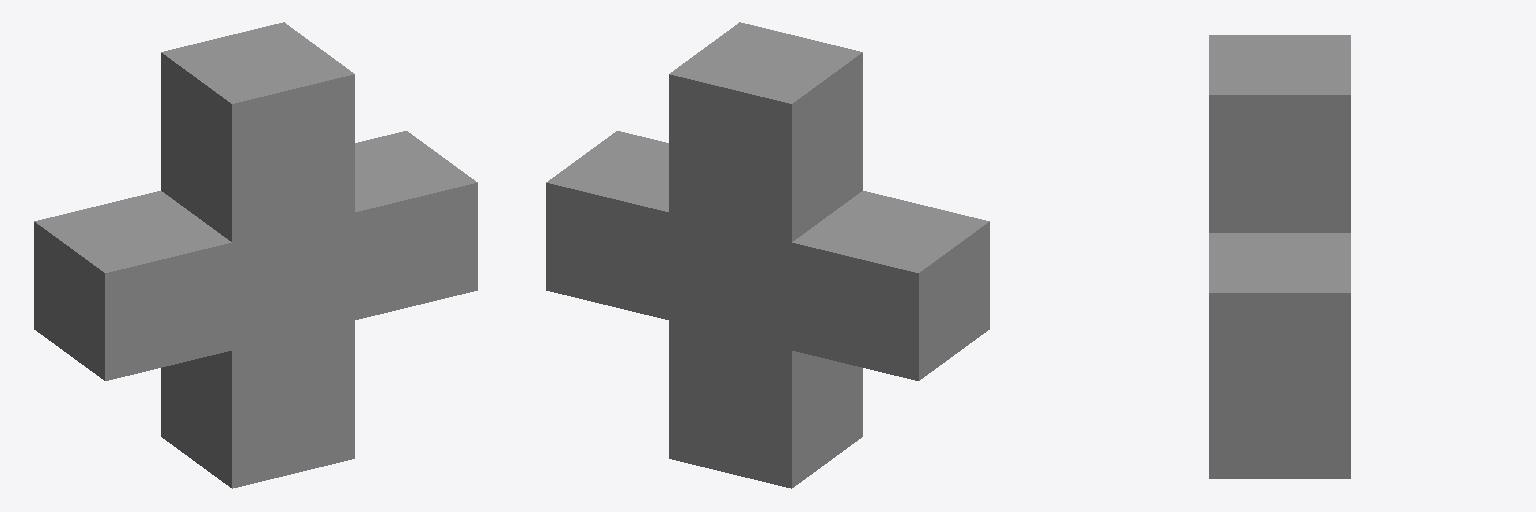
File: cruz.obj
3 views of the same model, side by side, from view 1: azimuth 30°, elevation 25°; view 2: azimuth 150°, elevation 25°; view 3: azimuth 270°, elevation 25° (orthographic).
Parts seen in each view (by area): view 1: Cube.001; view 2: Cube.001; view 3: Cube.001.
Part boxes in pixels (left/top/right/bottom): Cube.001: left=34, top=22, right=477, bottom=488; Cube.001: left=546, top=22, right=989, bottom=488; Cube.001: left=1209, top=35, right=1350, bottom=478.
Size of the model in its own units: 1.38 by 1.36 by 0.4555.